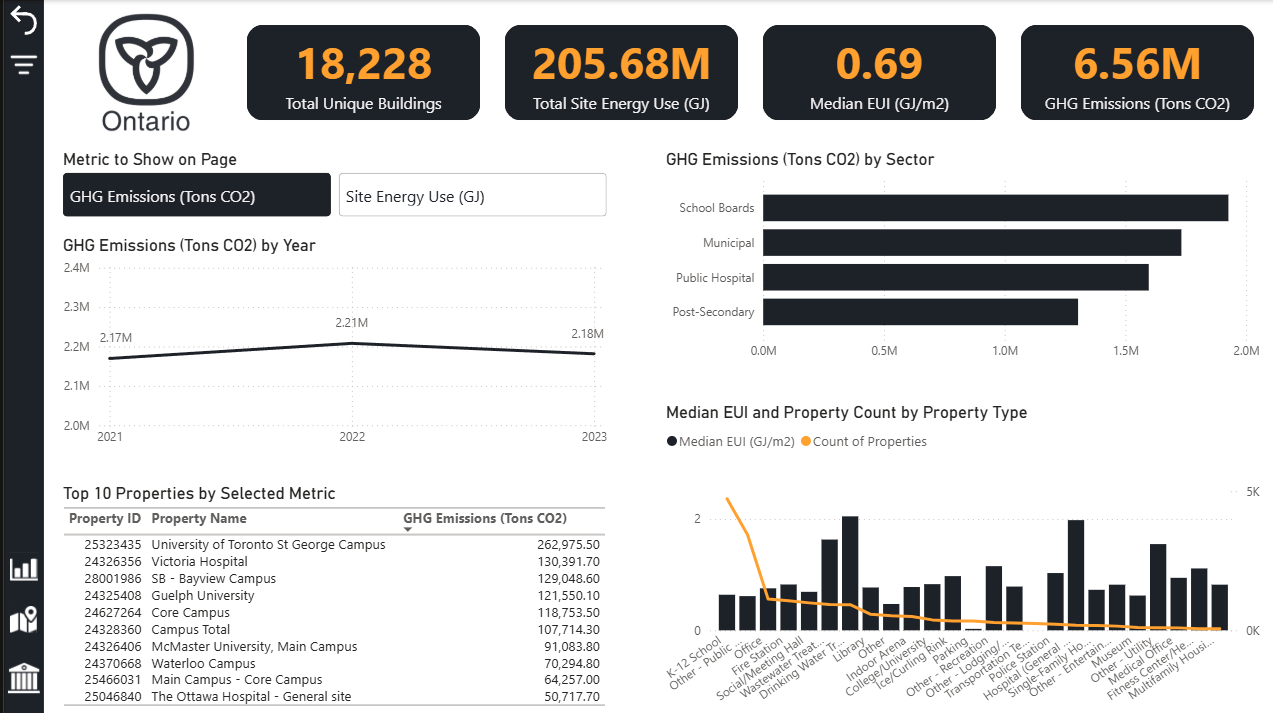

The dashboard page shown, as its layout file describes it:
{"tool":"powerbi","page":{"name":"Exec Dashboard","canvas":[1280,720],"ordinal":0},"visuals":[{"type":"shape","box":[0,0,40,720],"z":0,"group":"g1"},{"type":"cardVisual","fields":{"Data":["Measure Table.Total Buildings","Measure Table.Total Site Energy Use - GJ","Measure Table.Average EUI","Measure Table.Total GHG Emissions (Tons CO2)"]},"box":[234.8,15.1,1036.1,116.9],"z":0},{"type":"actionButton","box":[2,522.1,36,36],"z":125,"group":"g1"},{"type":"actionButton","box":[2,584.1,35,35],"z":250,"group":"g1"},{"type":"actionButton","box":[0,645,40.3,40.3],"z":500,"group":"g1"},{"type":"actionButton","box":[0,39.9,40,50],"z":1000,"group":"g1"},{"type":"clusteredBarChart","fields":{"Category":["dim_building.Sector","dim_building.Subsector"],"Y":["Measures Table.Total GHG Emissions (Tons CO2)"]},"box":[662,150.5,609.4,219.4],"z":1000},{"type":"actionButton","box":[0,0,40,40],"z":2000,"group":"g1"},{"type":"image","box":[40.3,10.1,205.6,127],"z":2000},{"type":"tableEx","fields":{"Values":["dim_building.Portfolio Manager Property ID","dim_building.Property Name","Measures Table.Total GHG Emissions (Tons CO2)"]},"box":[54.4,486.8,558.4,232.8],"z":3000},{"type":"barChart","title":"Median EUI (GJ/m2) - Top 25 Property Types by Count of Properties","fields":{"Category":["dim_building.Primary Property Type - Self Selected"],"Y":["Measures Table.Median EUI (GJ/m2)"]},"box":[662.2,395.1,608.8,324.5],"z":7000},{"type":"lineChart","fields":{"Category":["dim_year.Year"],"Y":["Measures Table.Total GHG Emissions (Tons CO2)"]},"box":[54.4,236.9,558.4,221.7],"z":8000},{"type":"advancedSlicerVisual","title":"Metric to Show on Page","fields":{"Values":["Exec Parameter.Exec Parameter"]},"box":[54.4,150.2,558.4,73.6],"z":8250},{"type":"group","id":"g1","title":"Sidebar","box":[0,0,40.3,720],"z":8500}]}

Visuals, with their boxes on the page's 1280x720 design canvas (x1, y1, x2, y2). These are canvas units, not pixel positions in the 1273x713 screenshot, which may show the page scaled, cropped or inside an application window:
shape: (left=0, top=0, right=40, bottom=720)
cardVisual - Measure Table.Total Buildings x Measure Table.Total Site Energy Use - GJ: (left=235, top=15, right=1271, bottom=132)
actionButton: (left=2, top=522, right=38, bottom=558)
actionButton: (left=2, top=584, right=37, bottom=619)
actionButton: (left=0, top=645, right=40, bottom=685)
actionButton: (left=0, top=40, right=40, bottom=90)
clusteredBarChart - dim_building.Sector x dim_building.Subsector: (left=662, top=150, right=1271, bottom=370)
actionButton: (left=0, top=0, right=40, bottom=40)
image: (left=40, top=10, right=246, bottom=137)
tableEx - dim_building.Portfolio Manager Property ID x dim_building.Property Name: (left=54, top=487, right=613, bottom=720)
"Median EUI (GJ/m2) - Top 25 Property Types by Count of Properties" barChart: (left=662, top=395, right=1271, bottom=720)
lineChart - dim_year.Year x Measures Table.Total GHG Emissions (Tons CO2): (left=54, top=237, right=613, bottom=459)
"Metric to Show on Page" advancedSlicerVisual: (left=54, top=150, right=613, bottom=224)
"Sidebar" group: (left=0, top=0, right=40, bottom=720)
